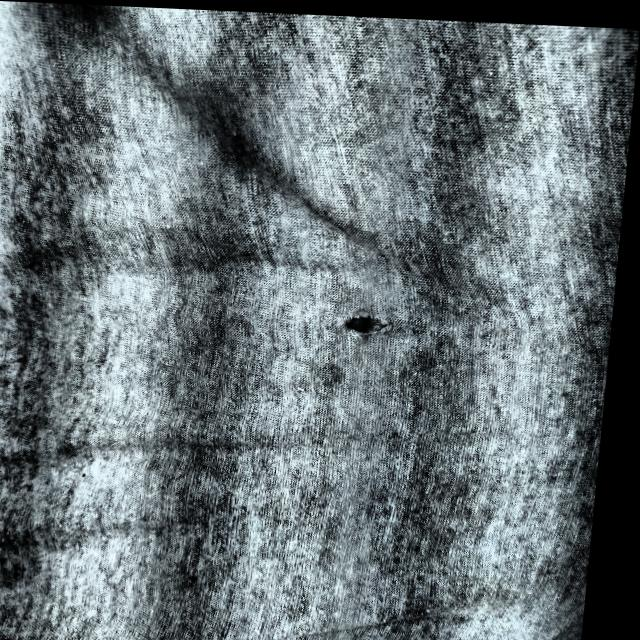Hole: (340, 298, 408, 342)
